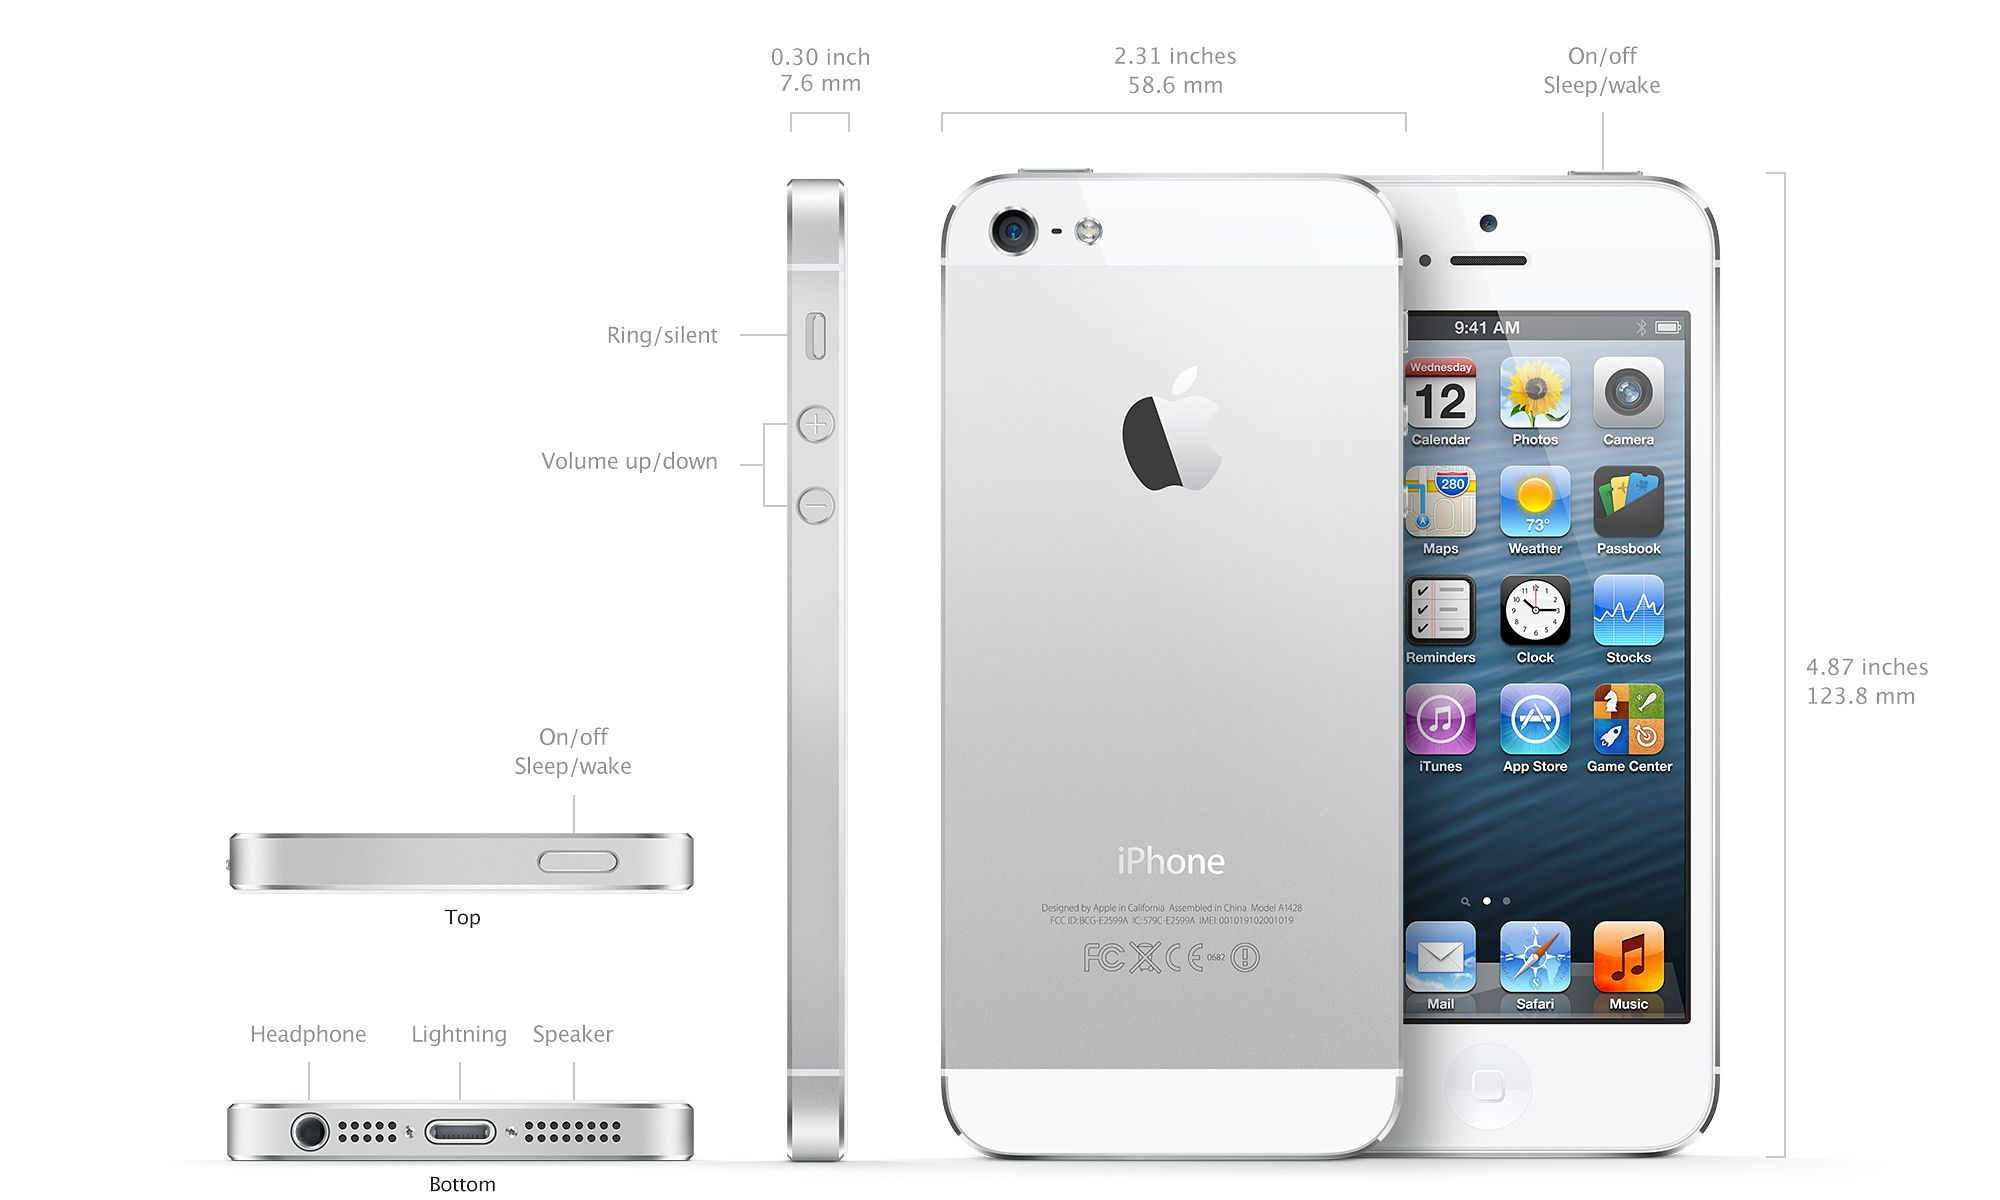Apple: (1101, 357, 1247, 524), (1090, 819, 1260, 899)
